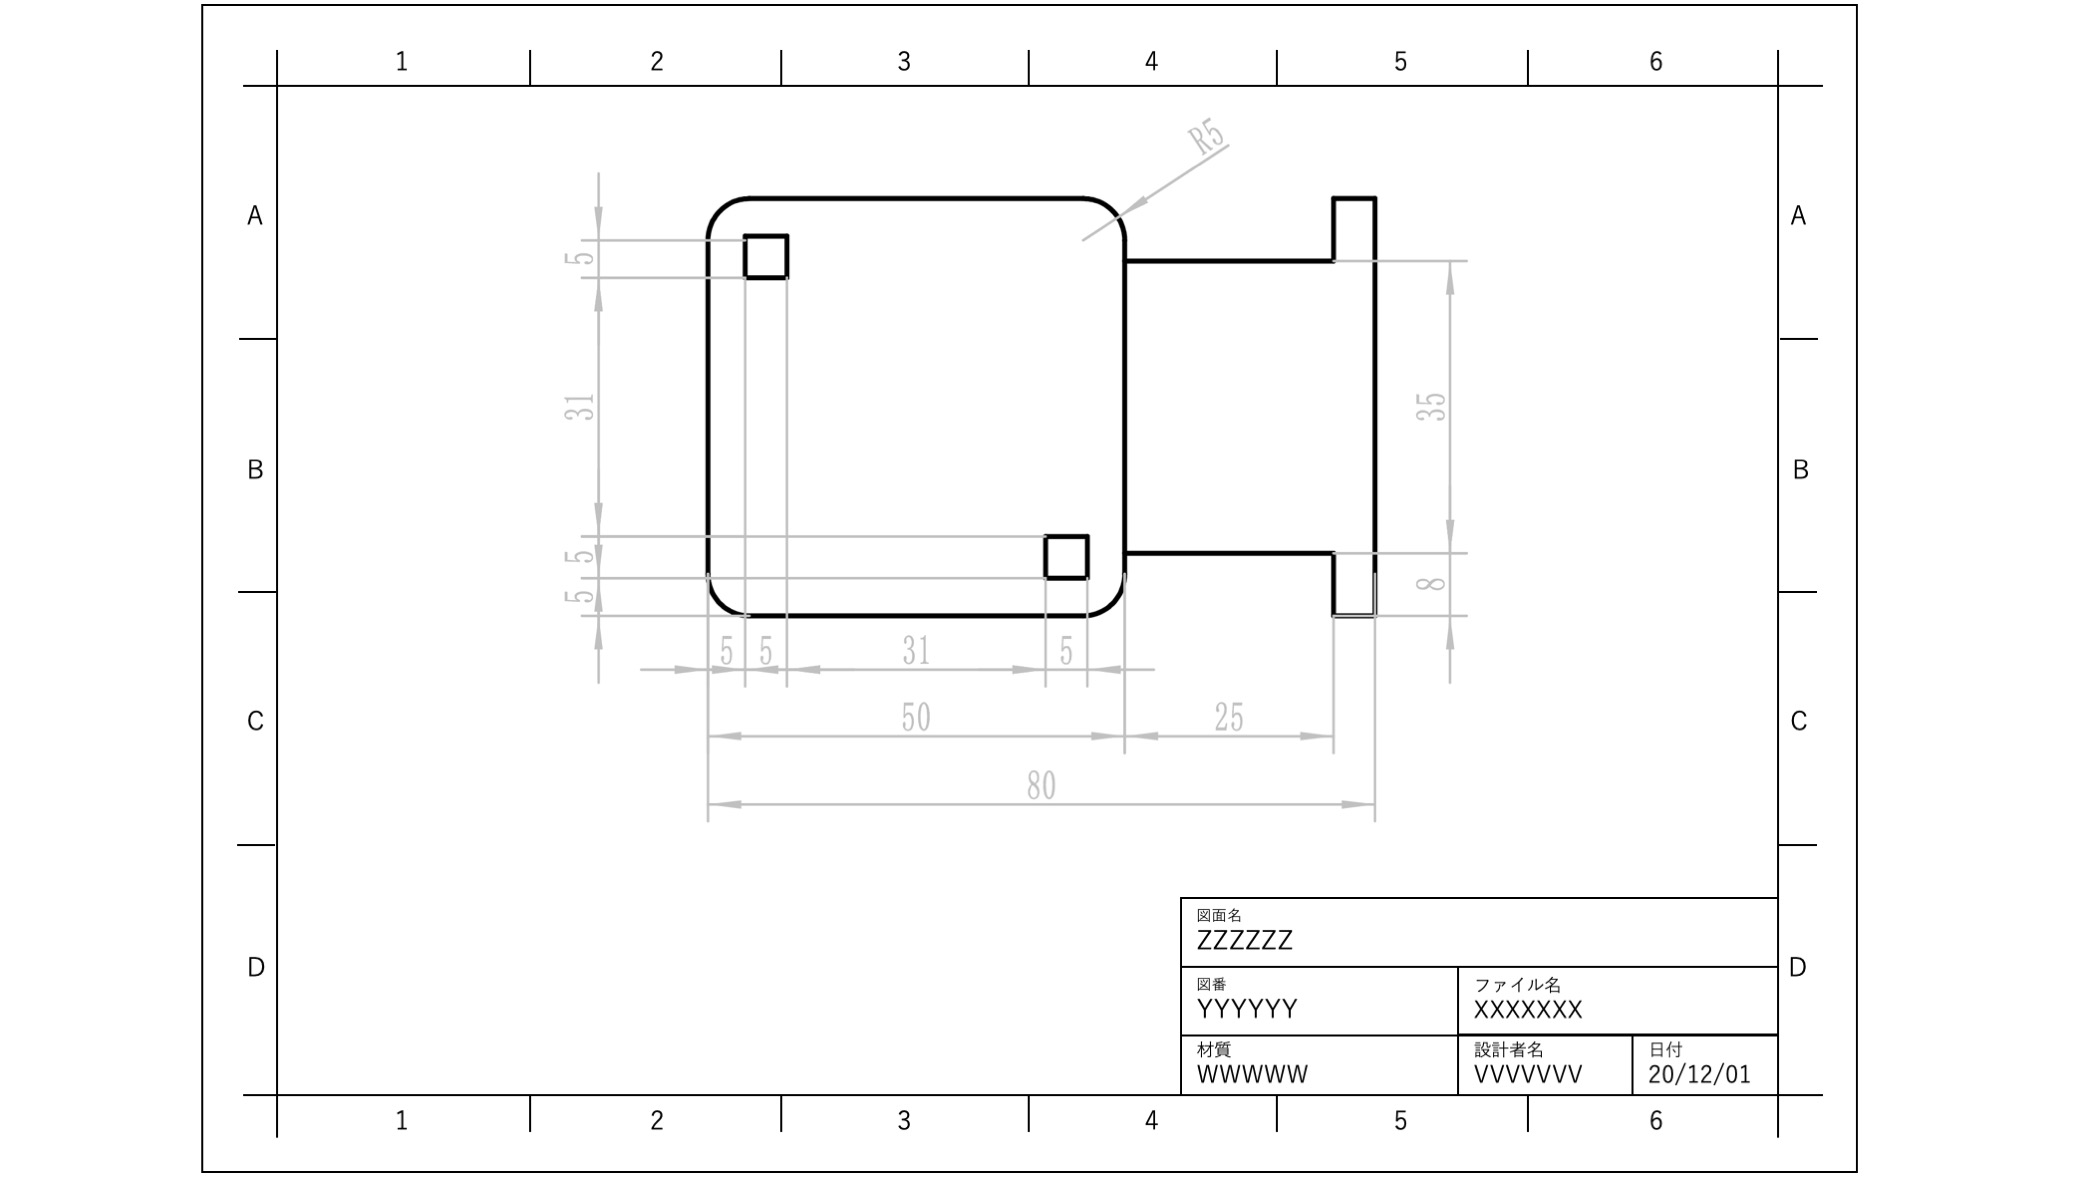rectangle: (1036, 516, 1098, 585), (733, 221, 795, 287)
